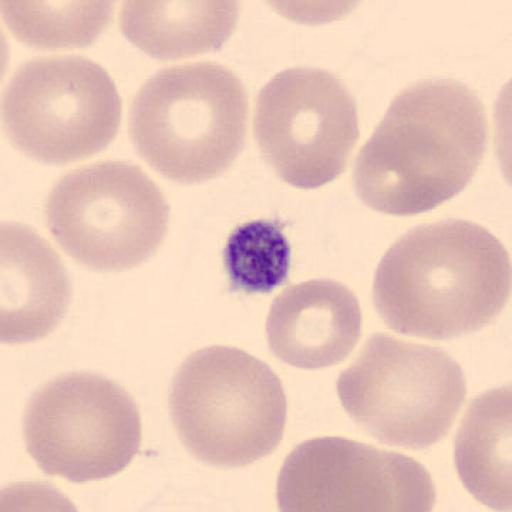Platelet: (218, 214, 295, 296)
RBC: (370, 215, 512, 344), (334, 329, 468, 451), (167, 343, 290, 471), (126, 61, 249, 186), (44, 157, 172, 275), (20, 368, 144, 485), (251, 62, 362, 192), (1, 53, 124, 167), (350, 119, 472, 218), (378, 74, 490, 176), (264, 274, 363, 372), (274, 433, 396, 512), (315, 436, 439, 512), (2, 220, 73, 346), (118, 0, 242, 62), (452, 383, 511, 512), (344, 443, 438, 512), (2, 0, 119, 52), (255, 0, 371, 28), (2, 478, 90, 512), (490, 75, 512, 189), (1, 13, 12, 97)
